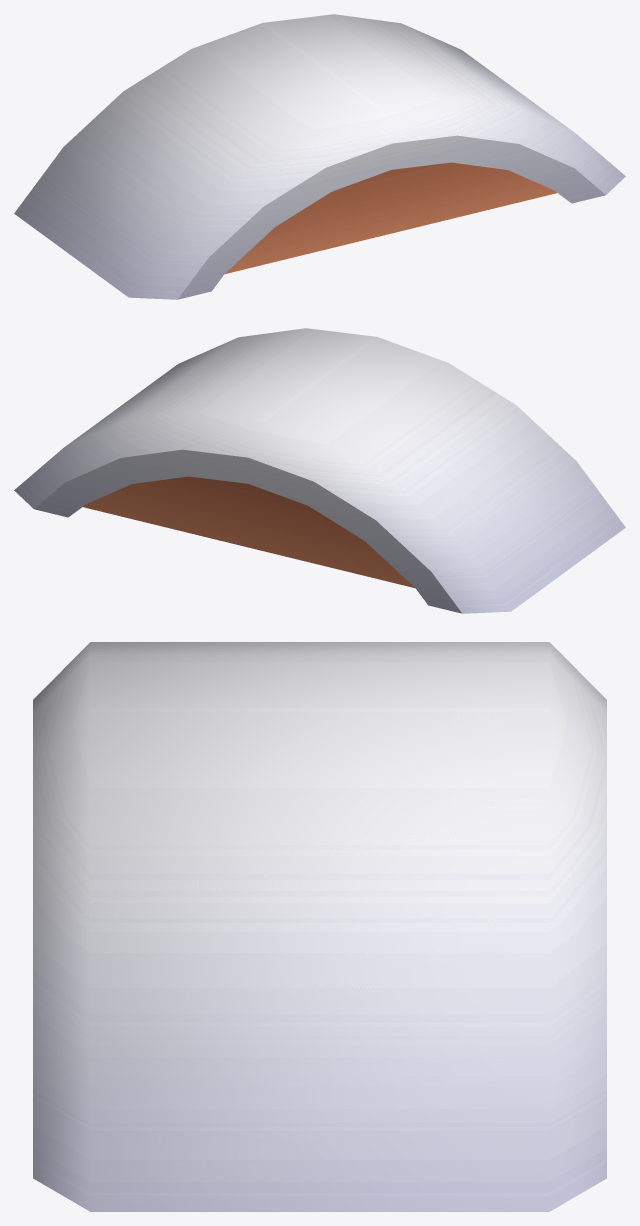
The model's file is block-snow-curve-low.glb.
3 renders of one model, top to bottom at view 1: azimuth 30°, elevation 25°; view 2: azimuth 150°, elevation 25°; view 3: azimuth 270°, elevation 25°, orthographic. The views are drawn at different scales.
Visible parts, largest first — view 1: block-snow-curve-low; view 2: block-snow-curve-low; view 3: block-snow-curve-low.
Part boxes in pixels (x1,y1,x2,y2): block-snow-curve-low: (14, 14, 625, 299); block-snow-curve-low: (14, 328, 625, 613); block-snow-curve-low: (33, 642, 606, 1211).
Bounding box in the file's own units: 2 × 0.5 × 1.
1 material, 1 textured.
